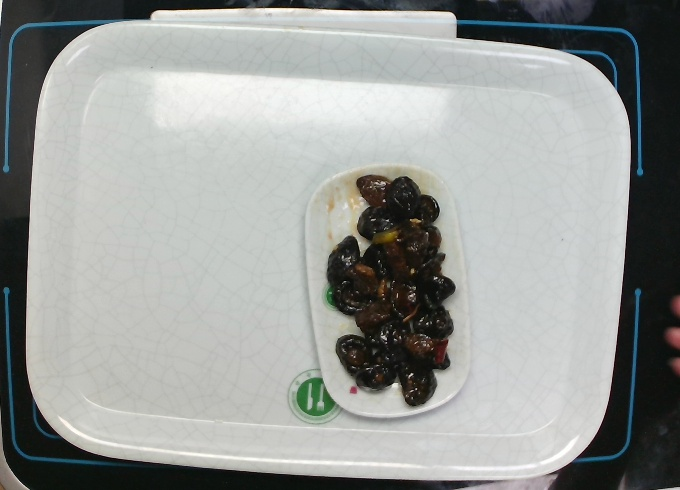WCQzf-Tuo_Yuan_Pan: (300, 156, 476, 424)
